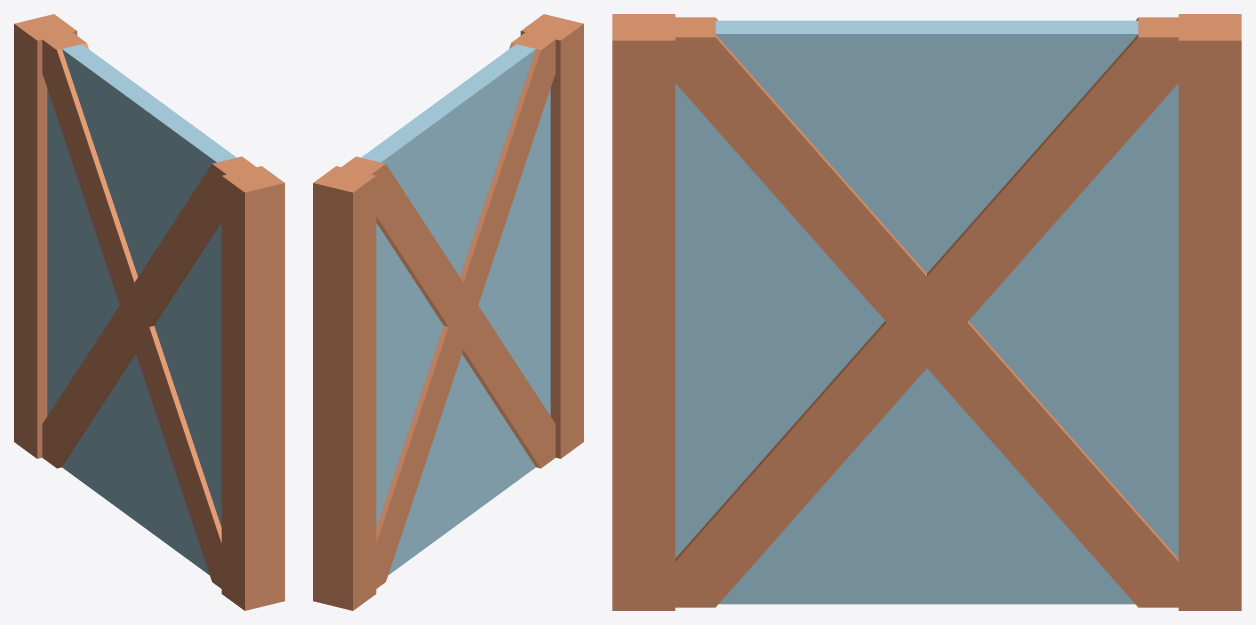
The model's file is wallDetailCross.fbx.
3 renders of one model, left to right at view 1: azimuth 30°, elevation 25°; view 2: azimuth 150°, elevation 25°; view 3: azimuth 270°, elevation 25°, orthographic. The views are drawn at different scales.
Parts seen in each view (by area): view 1: wallDetailCross; view 2: wallDetailCross; view 3: wallDetailCross.
Boxes of the visible parts, <box> form: wallDetailCross: <box>14,14,284,610</box>; wallDetailCross: <box>313,14,583,610</box>; wallDetailCross: <box>612,14,1241,610</box>.
Bounding box in the file's own units: 1 × 10 × 10.
